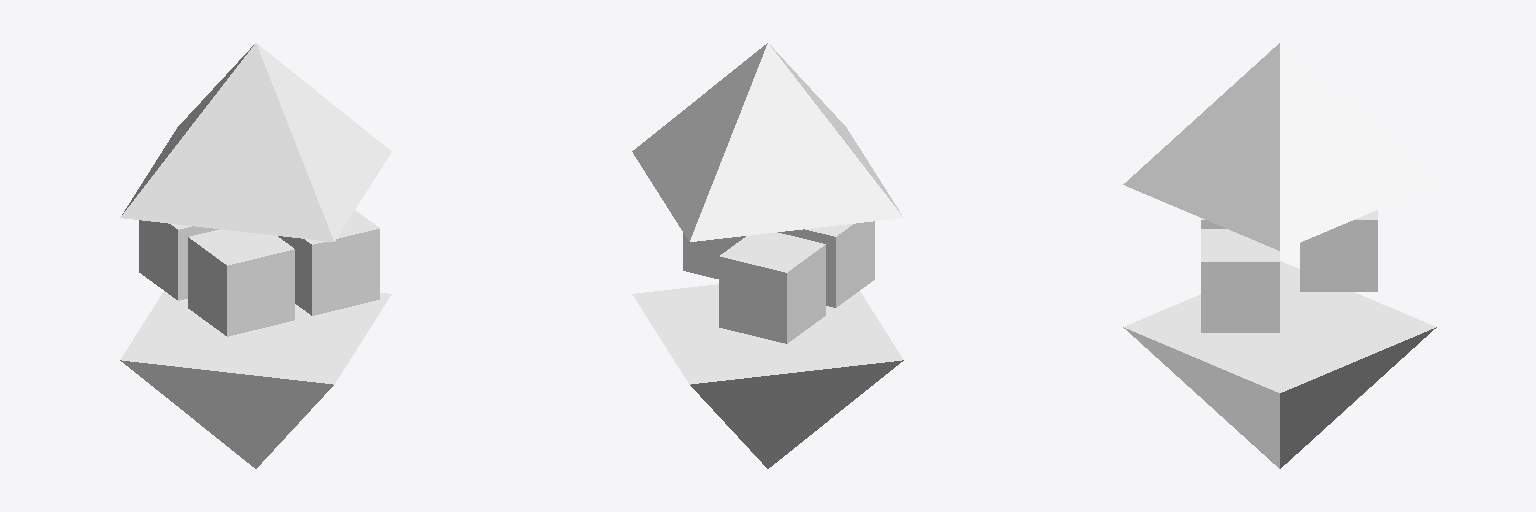
Rendered from Player.obj.
3 renders of one model, left to right at view 1: azimuth 30°, elevation 25°; view 2: azimuth 150°, elevation 25°; view 3: azimuth 270°, elevation 25°, orthographic.
Parts seen in each view (by area): view 1: Player; view 2: Player; view 3: Player.
Boxes of the visible parts, <box> form: Player: <box>120,43,391,468</box>; Player: <box>632,43,903,468</box>; Player: <box>1123,43,1436,468</box>.
Bounding box in the file's own units: 1 × 1.5 × 1.